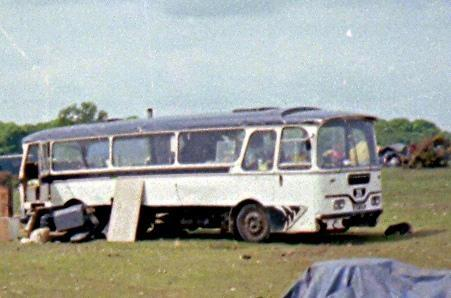bus: (22, 107, 384, 243)
